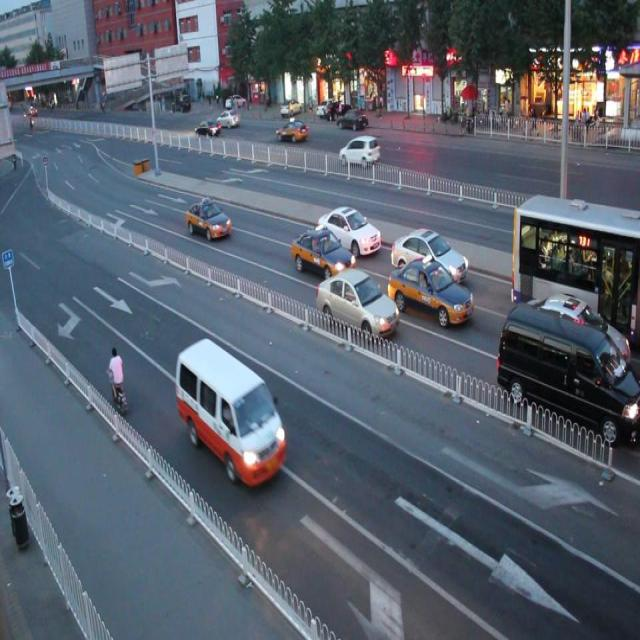car: (514, 293, 628, 391), (388, 260, 474, 330), (317, 270, 398, 337), (390, 228, 467, 283), (291, 225, 354, 282), (316, 204, 381, 254), (186, 198, 231, 244), (338, 134, 379, 166), (276, 118, 307, 142), (193, 117, 220, 140)
truck: (496, 300, 640, 446), (176, 338, 289, 487)
van: (510, 193, 640, 350)
